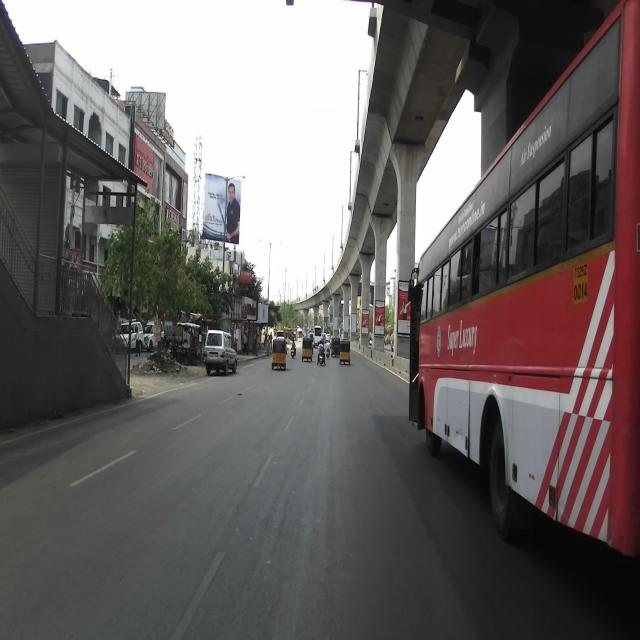bus: (406, 0, 639, 553)
car: (203, 328, 238, 376)
